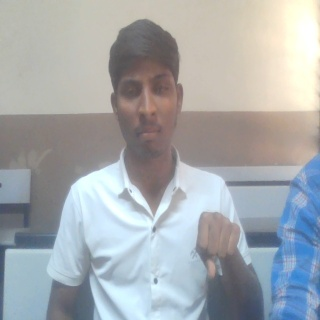Face: (108, 18, 186, 157)
Yes: (195, 210, 243, 278)
